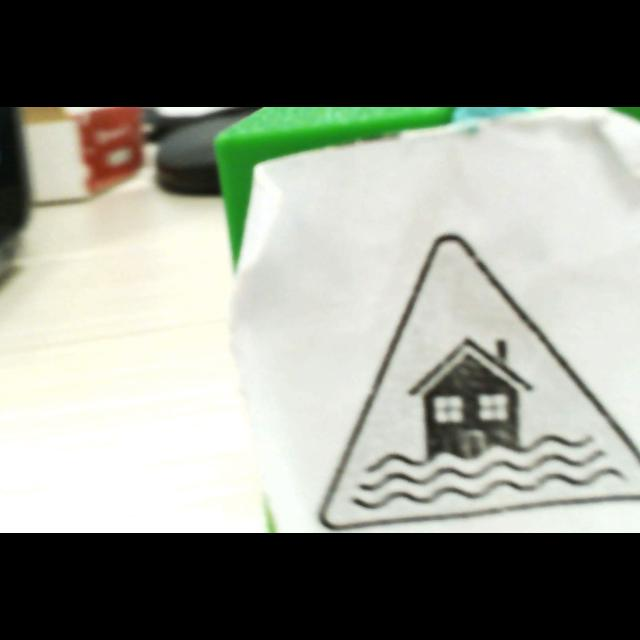Tsunami: (300, 235, 640, 533)
